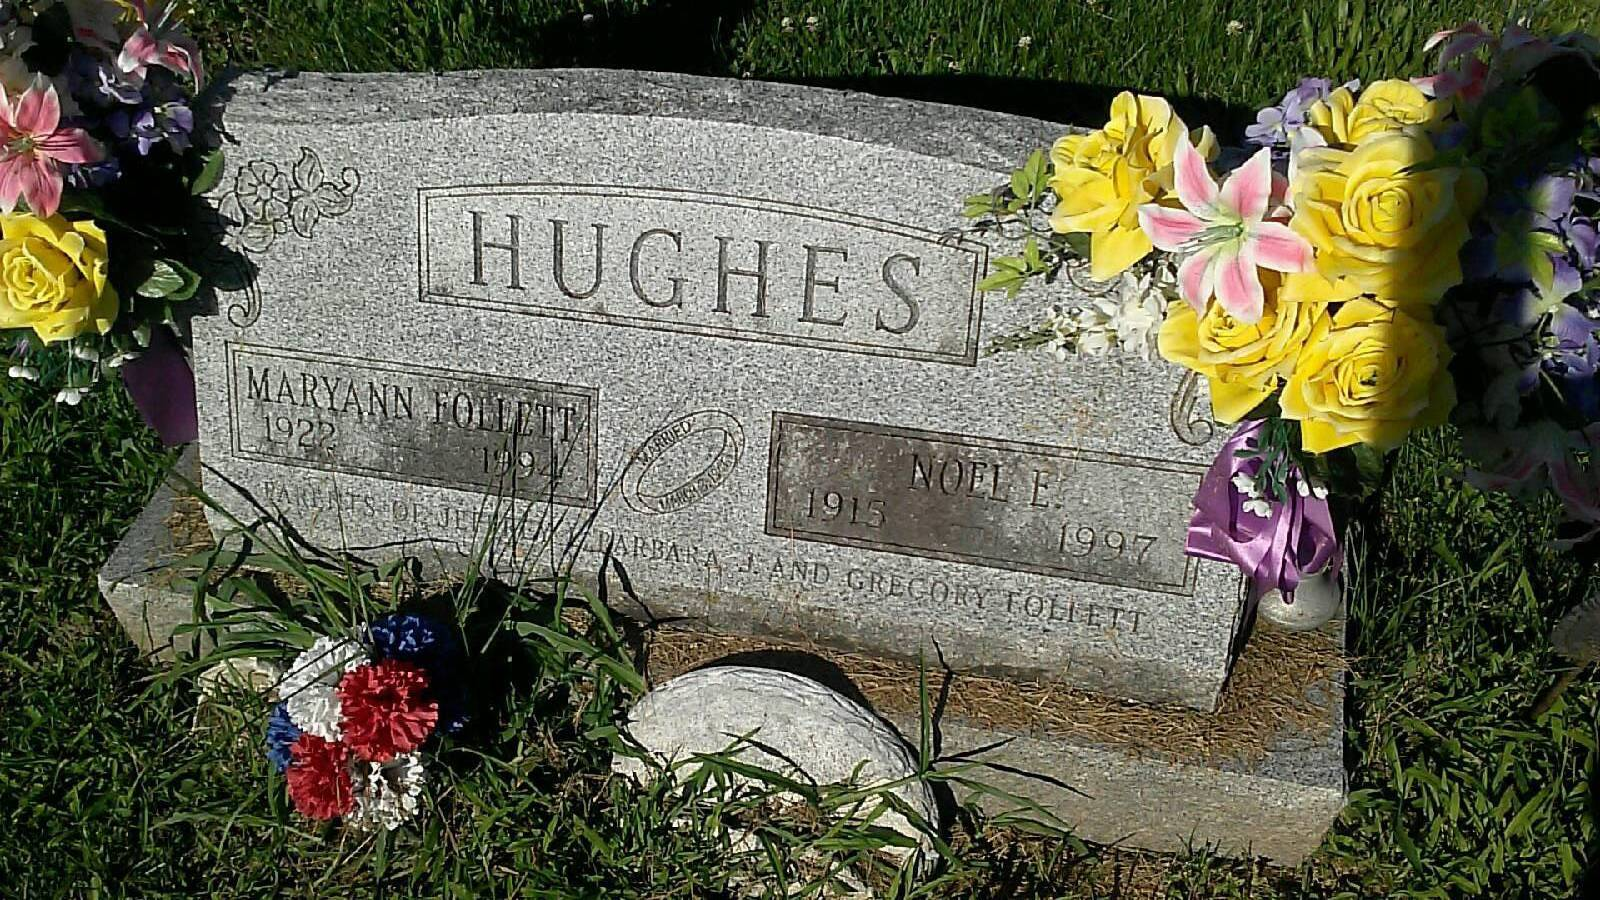slant: (99, 68, 1335, 871)
